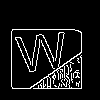W: (12, 22, 70, 73)
